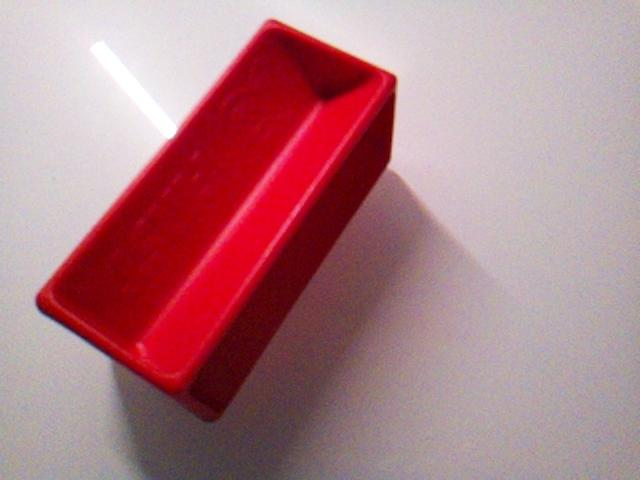red: (35, 17, 399, 423)
